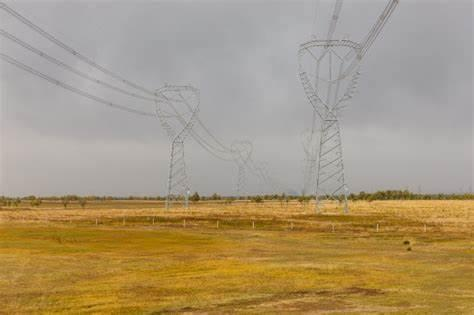power_tower: (282, 33, 361, 218), (151, 79, 200, 217), (226, 138, 260, 210)
